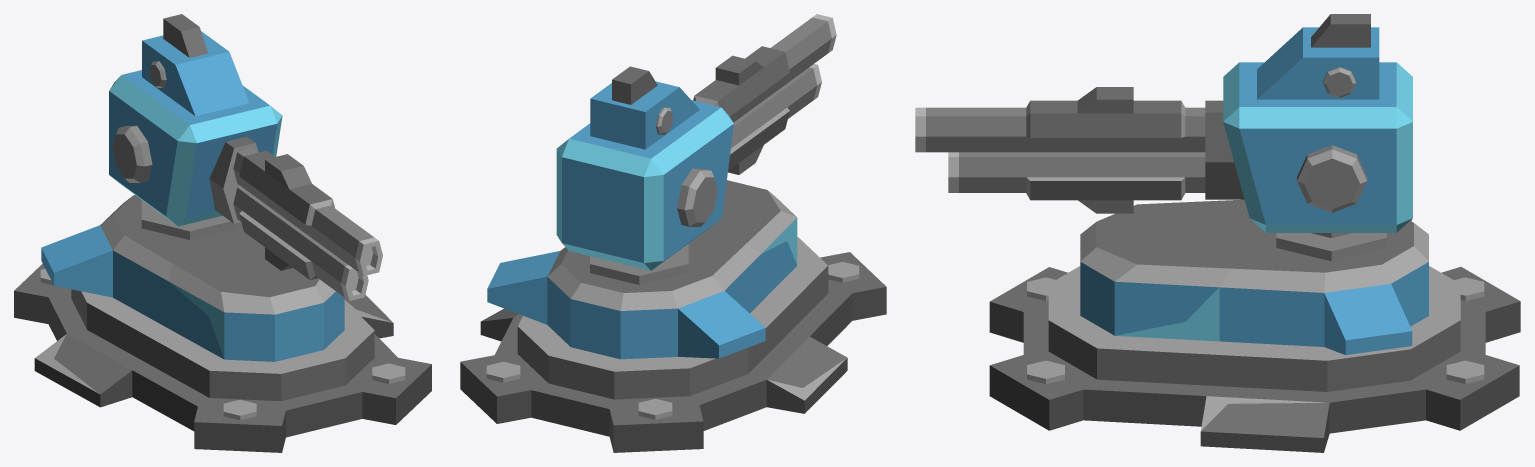
Rendered from tower_lethal_blue_3.fbx.
3 views of the same model, side by side, from view 1: azimuth 30°, elevation 25°; view 2: azimuth 150°, elevation 25°; view 3: azimuth 270°, elevation 25° (orthographic). The views are drawn at different scales.
Parts seen in each view (by area): view 1: tower_lethal_blue_3, top_lethal_blue_3; view 2: tower_lethal_blue_3, top_lethal_blue_3; view 3: tower_lethal_blue_3, top_lethal_blue_3.
Part boxes in pixels (left/top/right/bottom): tower_lethal_blue_3: left=14, top=195, right=431, bottom=452; top_lethal_blue_3: left=109, top=14, right=382, bottom=300; tower_lethal_blue_3: left=460, top=180, right=886, bottom=452; top_lethal_blue_3: left=556, top=14, right=836, bottom=284; tower_lethal_blue_3: left=989, top=199, right=1520, bottom=452; top_lethal_blue_3: left=915, top=14, right=1412, bottom=261.
Size of the model in its own units: 159 by 144 by 229.
